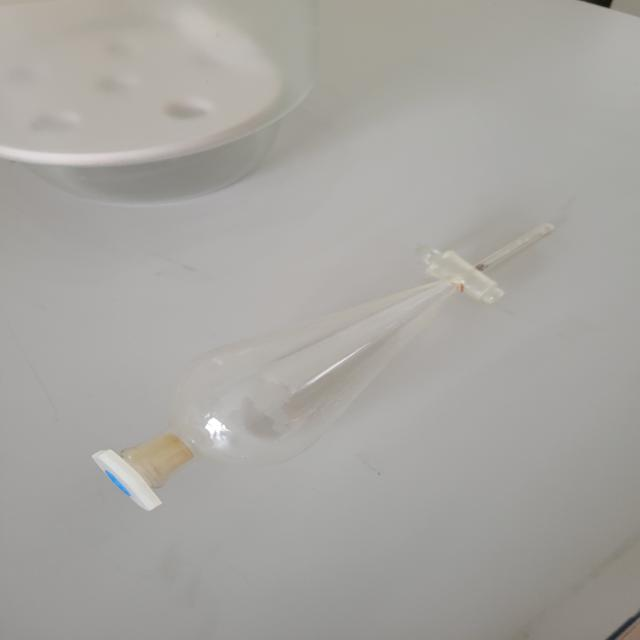Separating_Funnel: (64, 186, 610, 530)
